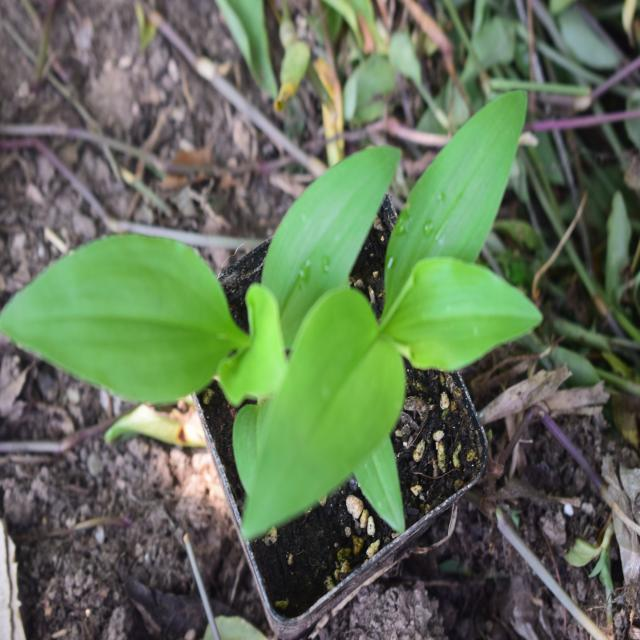Common Dayflower: (247, 88, 547, 540), (14, 203, 247, 421)
